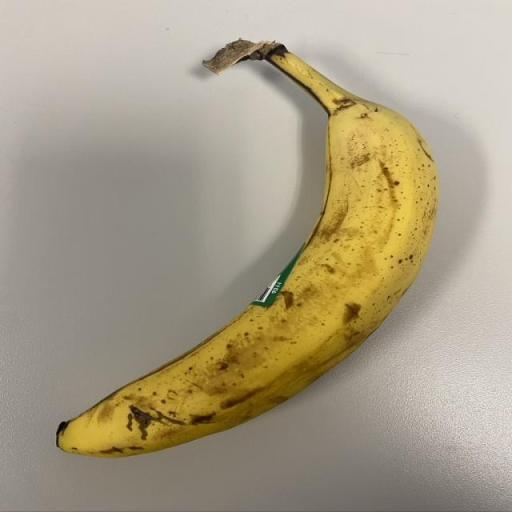fruit: (56, 40, 436, 456)
